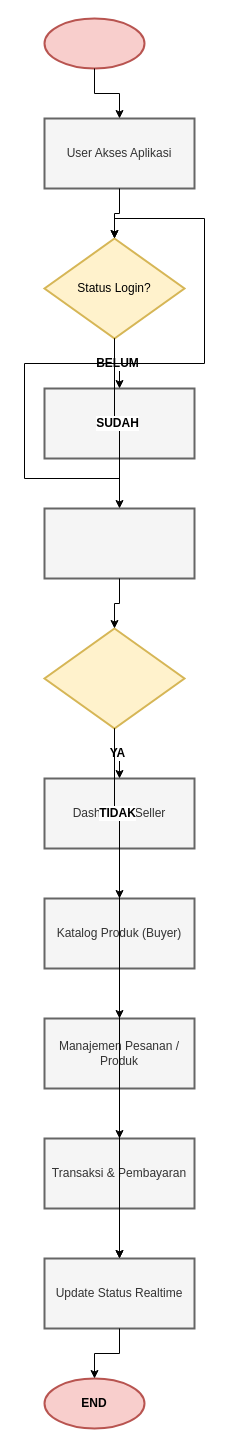
The diagram is 230 pixels wide and 1446 high, and some of its shapes have lost their labels. Each missing label, with the box of its shape:
Halaman Login/Register: (43, 387, 195, 459)
Identifikasi Role User: (43, 507, 195, 579)
Role == Seller?: (43, 627, 185, 729)
START: (43, 17, 145, 69)
